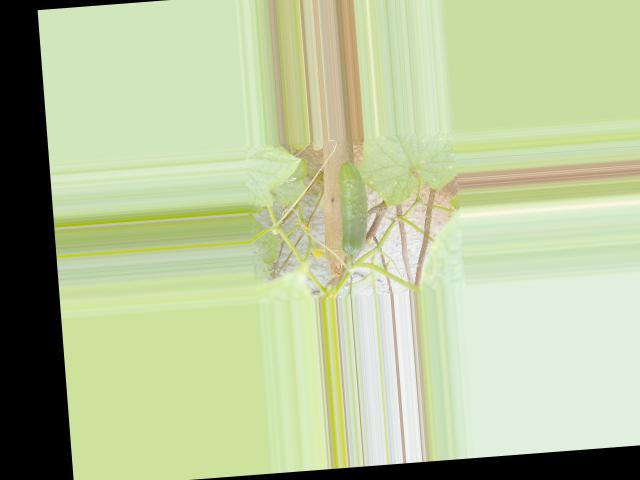cucumber: (334, 160, 371, 256)
